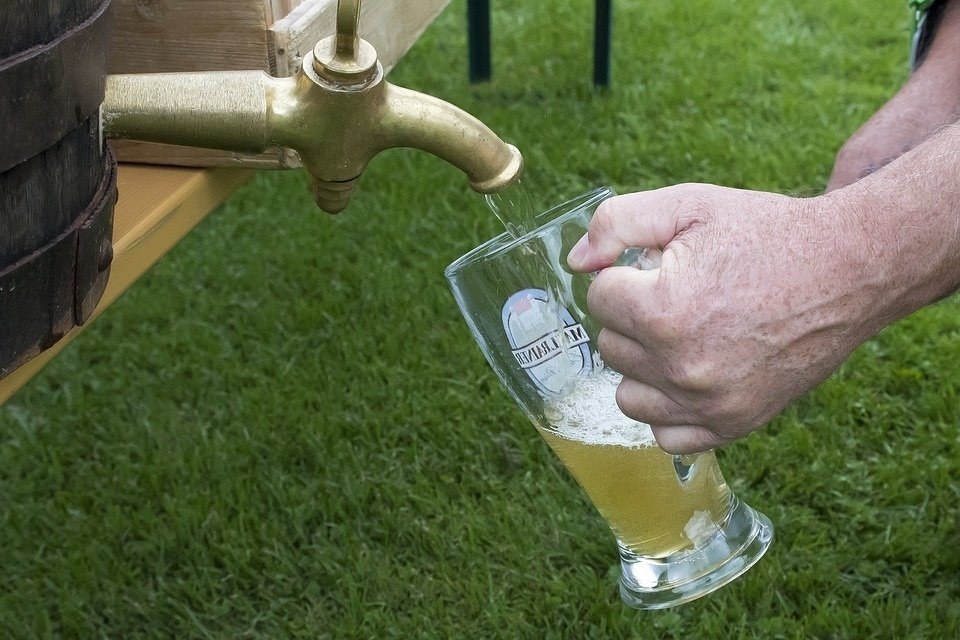whiskey: (456, 191, 746, 597)
